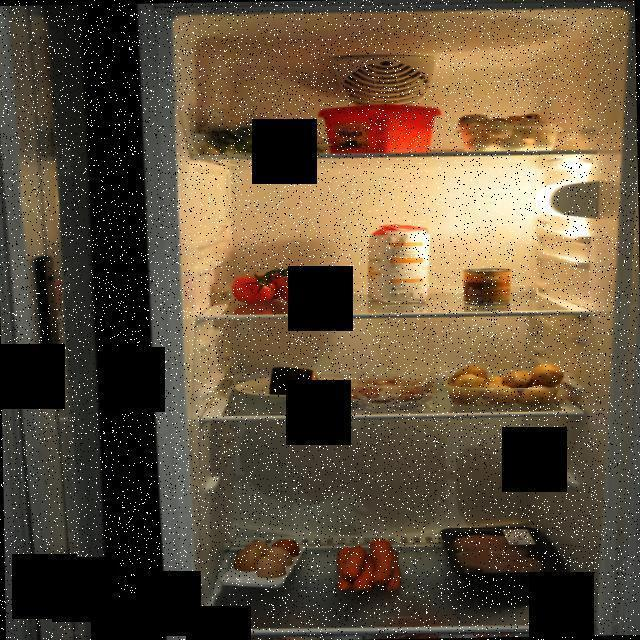butter: (316, 102, 444, 156)
carrot: (334, 538, 404, 595)
cheese: (264, 363, 321, 398)
chicken_breast: (443, 528, 548, 582)
corn: (460, 265, 514, 305)
egg: (234, 532, 304, 580)
green_beans: (194, 114, 338, 154)
mushrooms: (451, 110, 558, 154)
potato: (444, 361, 567, 407)
shrimp: (345, 371, 435, 407)
sugar: (362, 220, 437, 304)
tomato: (232, 266, 321, 307)
